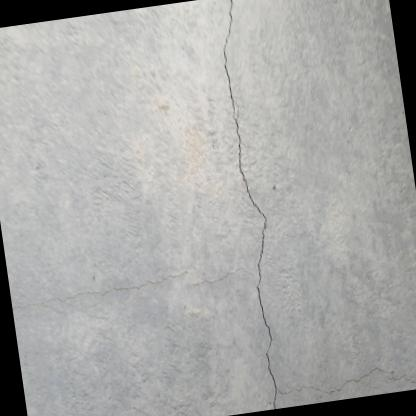crack: (222, 0, 277, 409)
